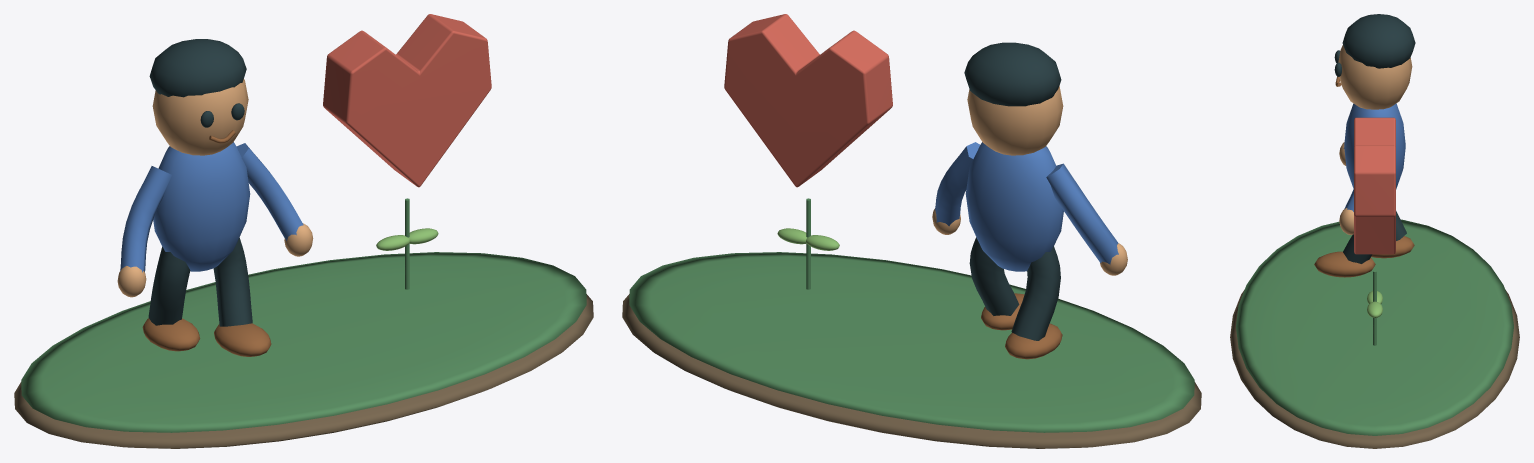
The model's file is healthy-well.glb.
3 renders of one model, left to right at view 1: azimuth 30°, elevation 25°; view 2: azimuth 150°, elevation 25°; view 3: azimuth 270°, elevation 25°, orthographic. The views are drawn at different scales.
Parts seen in each view (by area): view 1: healthy-well_surface_01, healthy-well_surface_06, healthy-well_surface_05, healthy-well_surface_00, healthy-well_surface_03, healthy-well_surface_02, healthy-well_surface_04, healthy-well_surface_07; view 2: healthy-well_surface_01, healthy-well_surface_06, healthy-well_surface_05, healthy-well_surface_00, healthy-well_surface_03, healthy-well_surface_02, healthy-well_surface_04, healthy-well_surface_07; view 3: healthy-well_surface_01, healthy-well_surface_06, healthy-well_surface_00, healthy-well_surface_03, healthy-well_surface_02, healthy-well_surface_05, healthy-well_surface_04, healthy-well_surface_07.
Boxes of the visible parts, x1,y1,x2,y2 form: healthy-well_surface_01: [21, 198, 586, 432]; healthy-well_surface_06: [323, 14, 491, 187]; healthy-well_surface_05: [120, 142, 303, 272]; healthy-well_surface_00: [14, 294, 593, 448]; healthy-well_surface_03: [148, 39, 252, 326]; healthy-well_surface_02: [117, 79, 313, 297]; healthy-well_surface_04: [142, 130, 271, 356]; healthy-well_surface_07: [376, 228, 438, 250]; healthy-well_surface_01: [629, 198, 1194, 432]; healthy-well_surface_06: [724, 14, 892, 187]; healthy-well_surface_05: [935, 142, 1118, 271]; healthy-well_surface_00: [622, 294, 1201, 448]; healthy-well_surface_03: [964, 42, 1061, 340]; healthy-well_surface_02: [932, 86, 1127, 275]; healthy-well_surface_04: [981, 293, 1062, 359]; healthy-well_surface_07: [777, 228, 839, 250]; healthy-well_surface_01: [1236, 219, 1513, 435]; healthy-well_surface_06: [1354, 117, 1395, 254]; healthy-well_surface_00: [1230, 290, 1519, 448]; healthy-well_surface_03: [1334, 14, 1415, 263]; healthy-well_surface_02: [1338, 45, 1412, 234]; healthy-well_surface_05: [1343, 103, 1405, 211]; healthy-well_surface_04: [1314, 76, 1414, 277]; healthy-well_surface_07: [1367, 291, 1382, 317].
Bounding box in the file's own units: 4.56 × 2.76 × 2.5.
